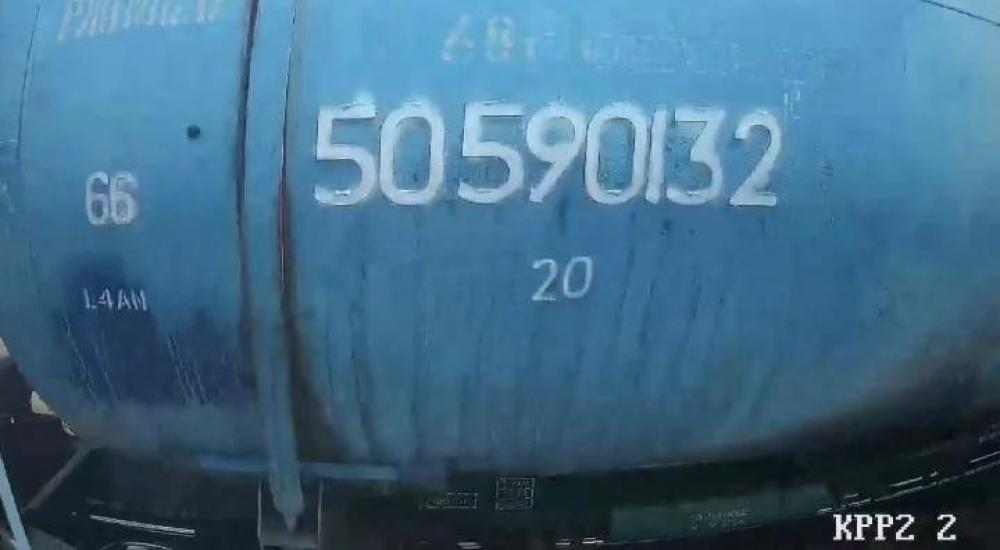Wagon-number: (308, 94, 785, 218)
